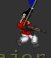red_player: (11, 7, 41, 51)
